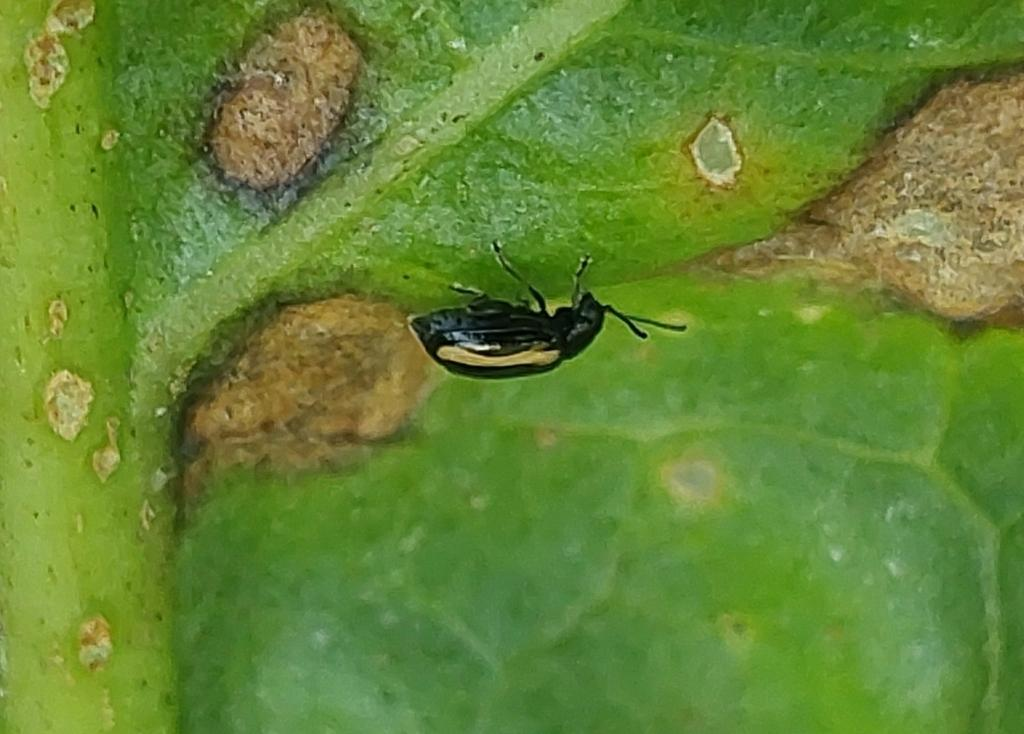flea_beetle: (367, 211, 674, 440)
